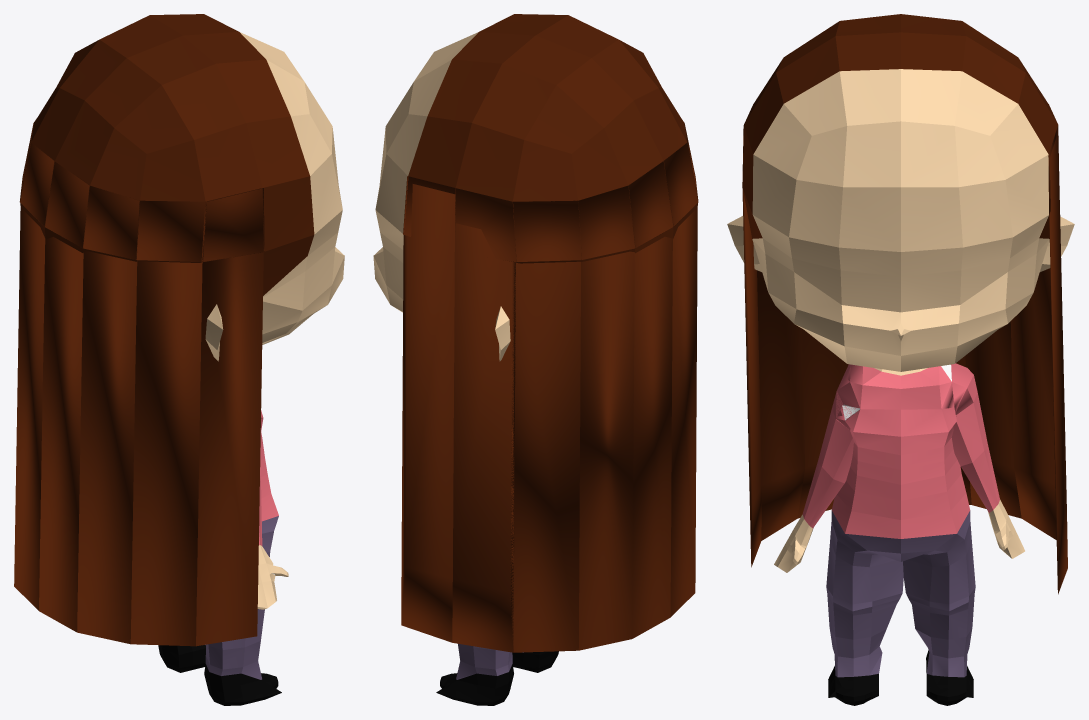
3 renders of one model, left to right at view 1: azimuth 30°, elevation 25°; view 2: azimuth 150°, elevation 25°; view 3: azimuth 270°, elevation 25°, orthographic.
Visible parts, largest first — view 1: head2; view 2: head2; view 3: head2.
Part boxes in pixels (x1,y1,x2,y2): head2: (14, 14, 344, 705); head2: (373, 14, 698, 705); head2: (727, 14, 1074, 705).
Size of the model in its own units: 5.98 by 12.96 by 6.35.
Materials: 6 (1 with a texture image).
